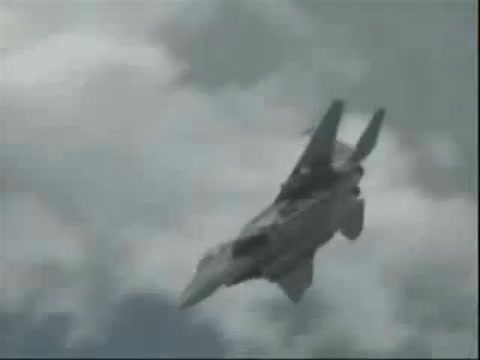aeroplane: (176, 102, 391, 316)
